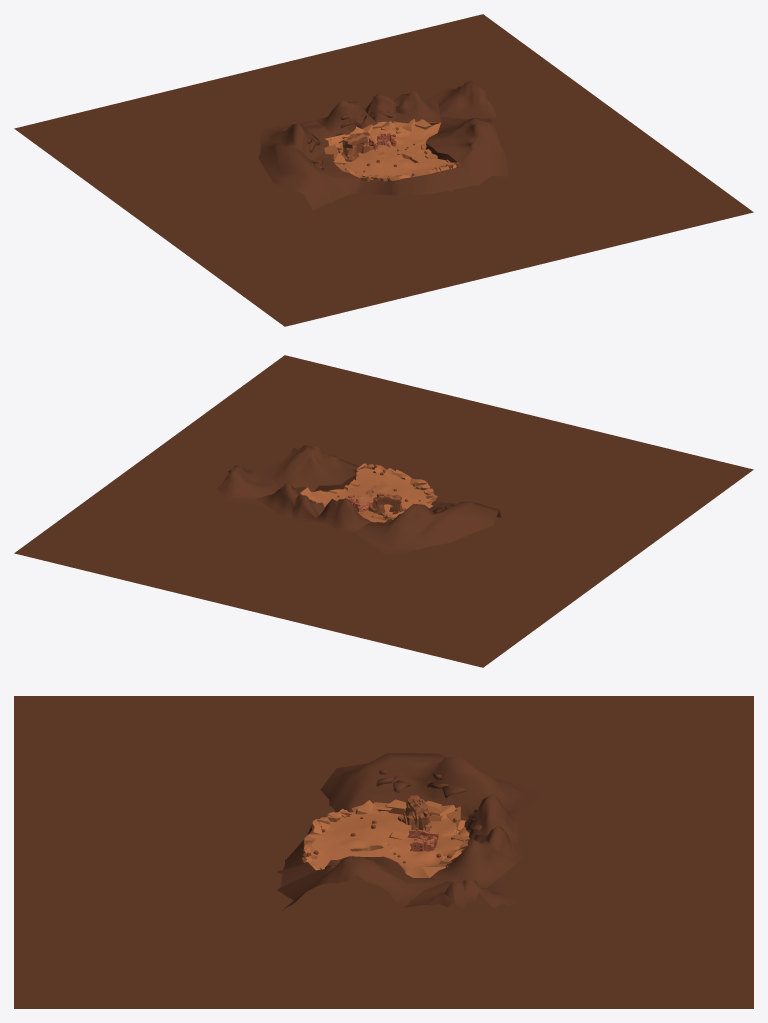
The model's file is Model_Level.fbx.
The picture shows the model from 3 angles, top to bottom: view 1: azimuth 30°, elevation 25°; view 2: azimuth 150°, elevation 25°; view 3: azimuth 270°, elevation 25°; orthographic projection. The views are drawn at different scales.
Parts seen in each view (by area): view 1: world_lvl__void, world_lvl_mauntains, world_lvl_ground, world_lvl_cliff, world_lvl_arche; view 2: world_lvl__void, world_lvl_mauntains, world_lvl_ground, world_lvl_arche; view 3: world_lvl__void, world_lvl_mauntains, world_lvl_ground, world_lvl_arche, world_lvl_cliff, world_lvl_lostcity.
Part boxes in pixels (x1,y1,x2,y2): world_lvl__void: [14, 14, 753, 326]; world_lvl_mauntains: [258, 80, 508, 210]; world_lvl_ground: [324, 117, 460, 181]; world_lvl_cliff: [345, 164, 473, 195]; world_lvl_arche: [341, 133, 373, 161]; world_lvl__void: [14, 355, 753, 667]; world_lvl_mauntains: [216, 445, 501, 556]; world_lvl_ground: [295, 463, 437, 522]; world_lvl_arche: [368, 493, 406, 515]; world_lvl__void: [14, 696, 753, 1008]; world_lvl_mauntains: [277, 753, 547, 909]; world_lvl_ground: [302, 799, 469, 877]; world_lvl_arche: [397, 795, 431, 831]; world_lvl_cliff: [277, 804, 349, 886]; world_lvl_lostcity: [407, 829, 438, 851].
Size of the model in its own units: 5139 by 611 by 5139.
